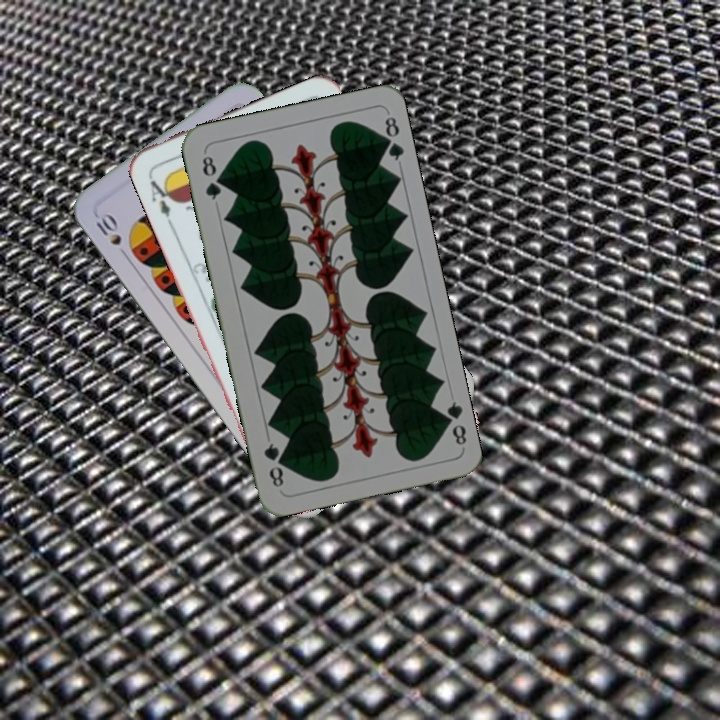EA: (145, 171, 178, 228)
G8: (437, 397, 470, 448), (198, 151, 224, 203)
S10: (91, 208, 132, 261)
